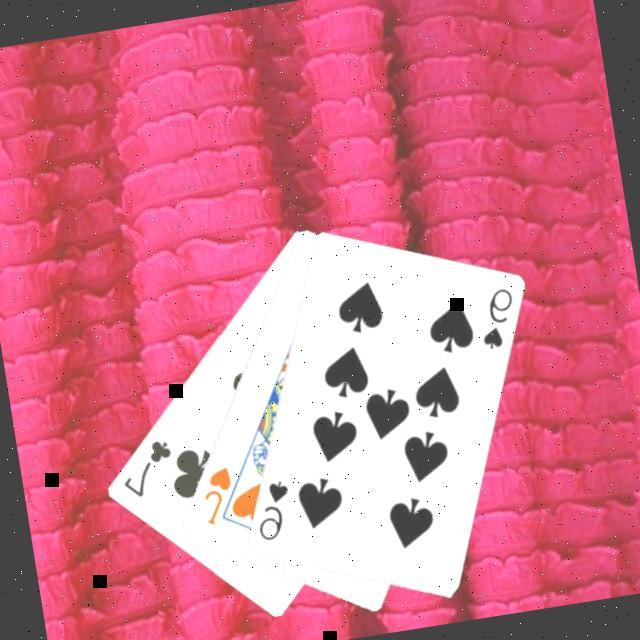7C: (111, 435, 180, 505)
9S: (468, 284, 522, 356), (245, 476, 297, 548)
JH: (193, 464, 239, 531)
